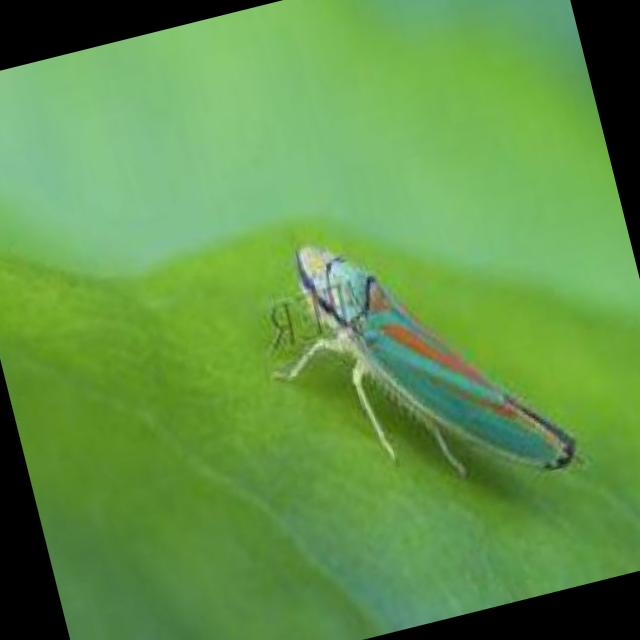green-leafhopper: (270, 183, 579, 526)
